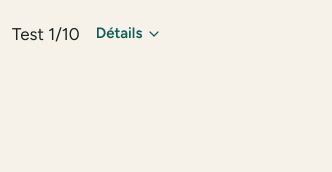
PanelDisclosure › « Détails » déplie les scénarios avec aria-expanded
Click the button "Détails": click(129, 34) [88,12,170,56]
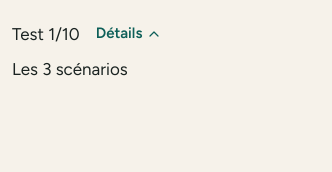
Expected: the button "Détails" is expanded, [88,12,170,56]
